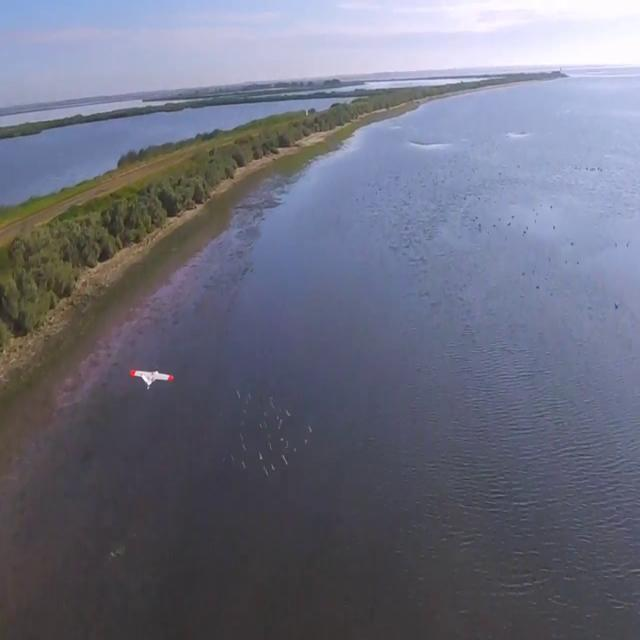iha: (128, 364, 176, 396)
